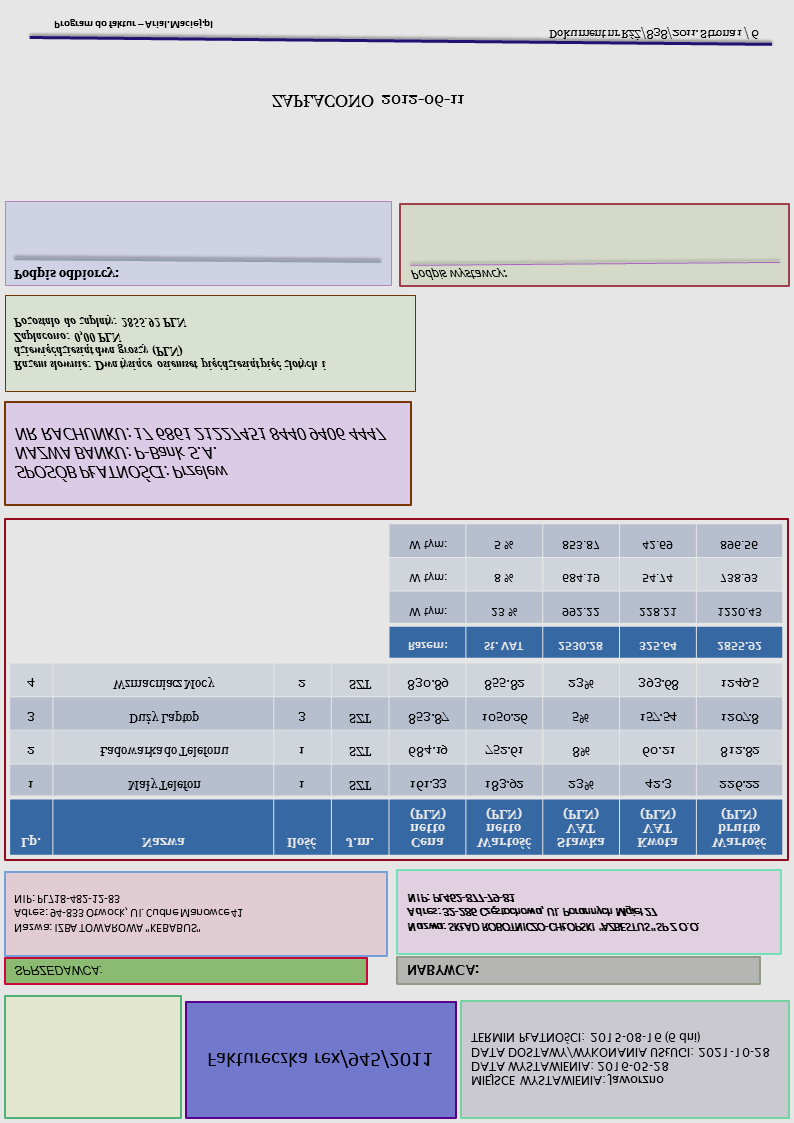Table: (8, 661, 783, 857), (388, 522, 784, 660)
TextBox: (13, 422, 387, 482), (10, 314, 328, 374), (468, 1028, 772, 1089), (403, 890, 701, 935), (10, 892, 245, 937), (203, 1046, 433, 1071), (547, 23, 761, 43), (267, 91, 466, 110), (51, 18, 215, 32), (11, 265, 122, 283), (408, 265, 507, 283), (11, 962, 104, 980), (404, 961, 480, 980)
